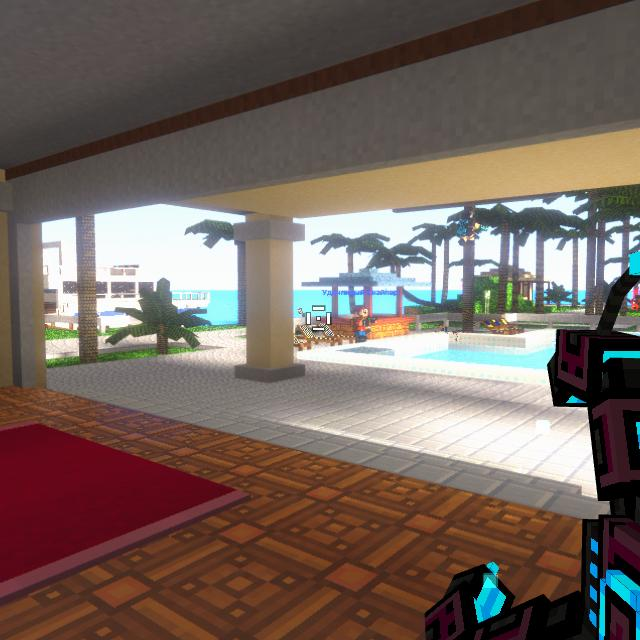Enemy: (632, 295, 640, 310)
